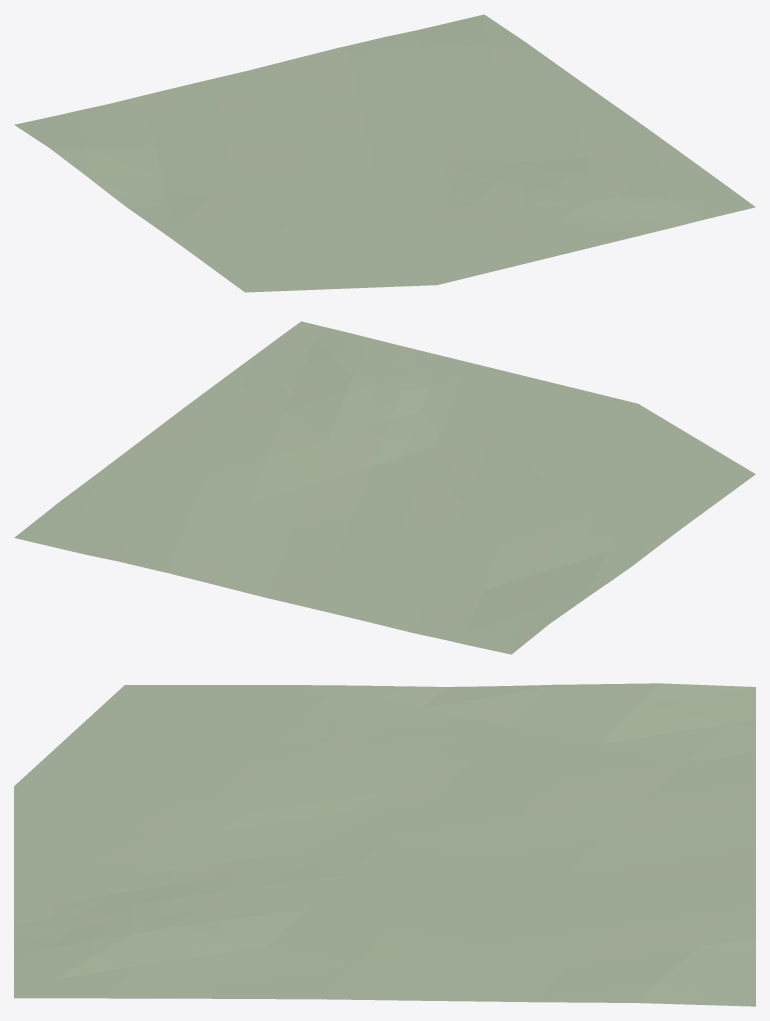
The model's file is SM_MPRR_Terrain_-2_-3.fbx.
3 renders of one model, top to bottom at view 1: azimuth 30°, elevation 25°; view 2: azimuth 150°, elevation 25°; view 3: azimuth 270°, elevation 25°, orthographic. The views are drawn at different scales.
Parts seen in each view (by area): view 1: SM_MPRR_Terrain_-2_-3; view 2: SM_MPRR_Terrain_-2_-3; view 3: SM_MPRR_Terrain_-2_-3.
Boxes of the visible parts, <box> form: SM_MPRR_Terrain_-2_-3: <box>14,14,755,292</box>; SM_MPRR_Terrain_-2_-3: <box>14,321,755,654</box>; SM_MPRR_Terrain_-2_-3: <box>14,683,755,1006</box>.
Bounding box in the file's own units: 15000 × 15000 × 249.
